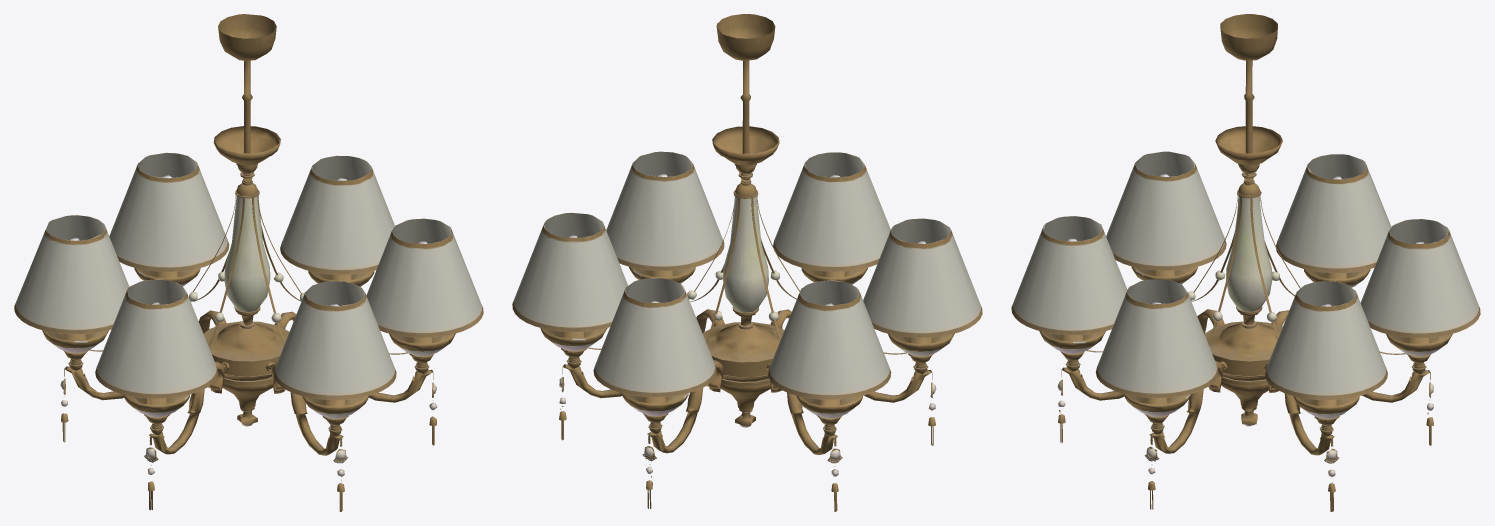
File: chandelier.glb
3 renders of one model, left to right at view 1: azimuth 30°, elevation 25°; view 2: azimuth 150°, elevation 25°; view 3: azimuth 270°, elevation 25°, orthographic.
Parts seen in each view (by area): view 1: Chandelier_01; view 2: Chandelier_01; view 3: Chandelier_01.
Boxes of the visible parts, left/top/right/bottom form: Chandelier_01: left=14, top=14, right=483, bottom=511; Chandelier_01: left=512, top=14, right=982, bottom=511; Chandelier_01: left=1011, top=14, right=1480, bottom=511.
Bounding box in the file's own units: 0.7465 × 0.7982 × 0.8155.
Materials: 2 (1 with a texture image).
